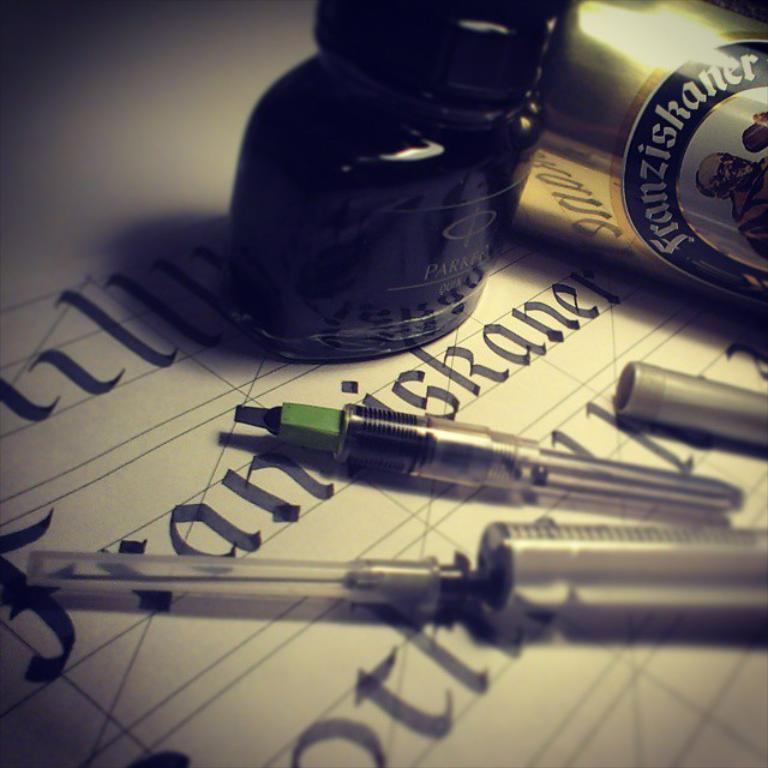pen: (244, 388, 746, 533)
